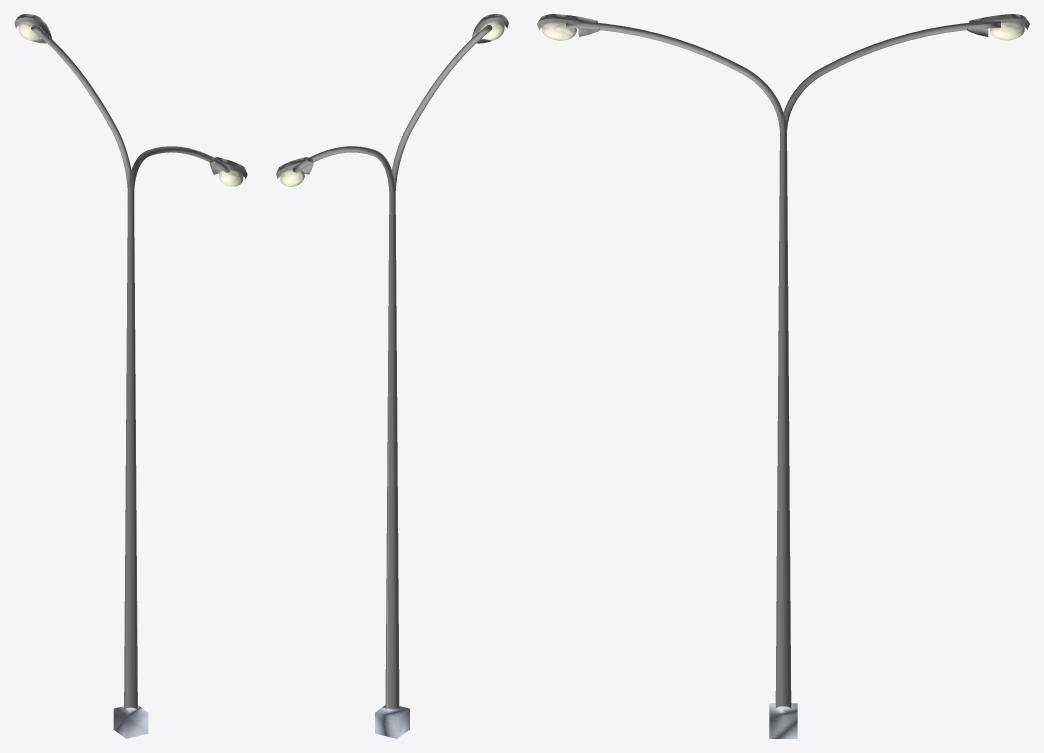
The model's file is lamp_twin.glb.
3 views of the same model, side by side, from view 1: azimuth 30°, elevation 25°; view 2: azimuth 150°, elevation 25°; view 3: azimuth 270°, elevation 25° (orthographic). The views are drawn at different scales.
Parts seen in each view (by area): view 1: ID548_node_40_w; view 2: ID548_node_40_w; view 3: ID548_node_40_w.
Boxes of the visible parts, x1,y1,x2,y2 form: ID548_node_40_w: (14, 14, 247, 738); ID548_node_40_w: (276, 14, 508, 738); ID548_node_40_w: (537, 14, 1029, 738).
Size of the model in its own units: 0.3429 by 8.6 by 5.38.
Materials: 3 (1 with a texture image).
